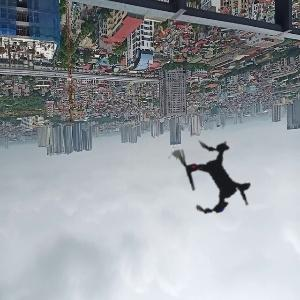drone: (147, 113, 281, 247)
